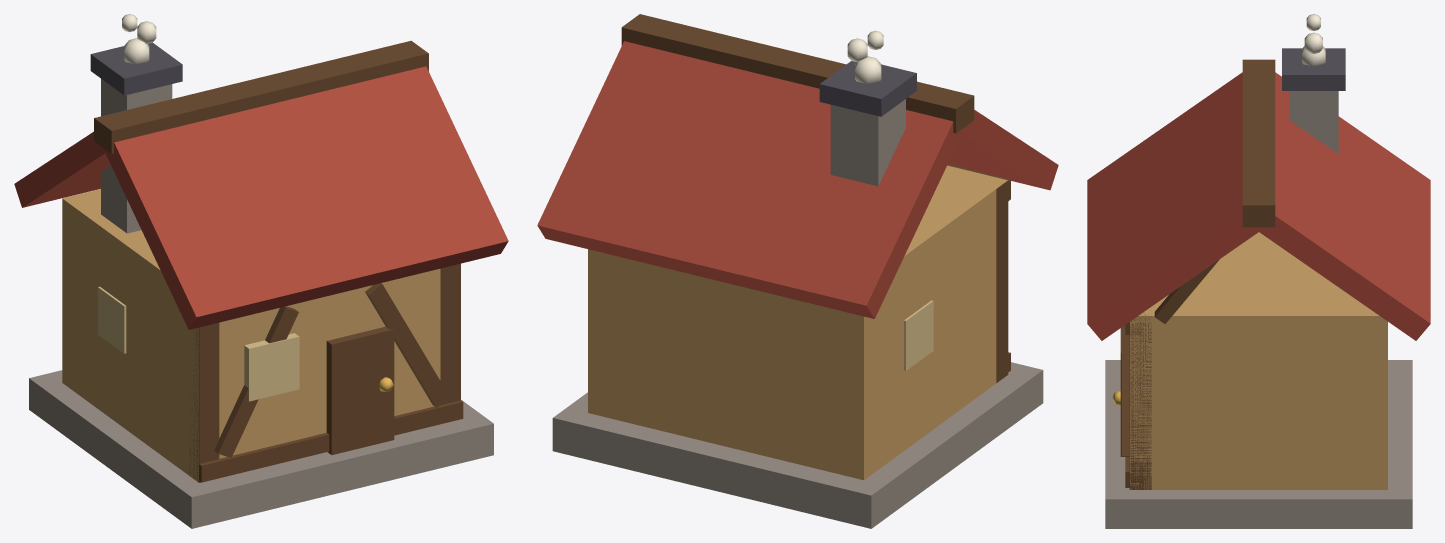
Rendered from building_house.glb.
The picture shows the model from 3 angles, left to right: view 1: azimuth 30°, elevation 25°; view 2: azimuth 150°, elevation 25°; view 3: azimuth 270°, elevation 25°; orthographic projection. The views are drawn at different scales.
Parts seen in each view (by area): view 1: roof_south, walls, foundation, ridge, door, timber_sill, roof_north, window_front, timber_corner_w, chimney_cap, chimney, timber_corner_e (+4 smaller); view 2: walls, roof_north, foundation, ridge, chimney, roof_south, chimney_cap, timber_corner_w, window_side, puff_0; view 3: walls, roof_south, roof_north, foundation, ridge, timber_corner_e, chimney_cap, chimney, timber_brace_e, gable_board_e.
Boxes of the visible parts, x1,y1,x2,y2 form: roof_south: (103,66,508,329); walls: (62,189,440,482); foundation: (29,370,493,528); ridge: (94,40,428,153); door: (326,326,394,454); timber_sill: (199,400,463,482); roof_north: (14,131,110,207); window_front: (244,333,299,401); timber_corner_w: (189,322,219,482); chimney_cap: (90,42,182,95); chimney: (101,79,172,233); timber_corner_e: (440,263,460,404); walls: (588,165,1007,480); roof_north: (537,41,962,318); foundation: (552,362,1043,528); ridge: (621,14,974,133); chimney: (830,99,905,186); roof_south: (948,110,1058,190); chimney_cap: (819,61,916,116); timber_corner_w: (987,175,1008,382); window_side: (904,300,933,370); puff_0: (855,56,881,84); walls: (1130,232,1387,489); roof_south: (1087,72,1264,340); roof_north: (1253,72,1430,340); foundation: (1105,360,1412,528); ridge: (1242,59,1275,227); timber_corner_e: (1129,314,1151,489); chimney_cap: (1282,48,1345,90); chimney: (1289,91,1338,153); timber_brace_e: (1122,325,1129,456); gable_board_e: (1154,259,1219,324).
Size of the model in its own units: 0.315 by 0.4 by 0.3134.
